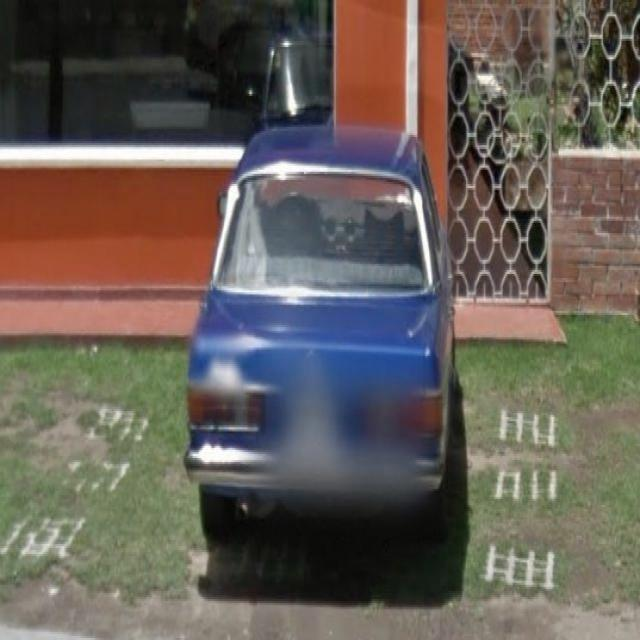Car: (188, 131, 458, 540)
